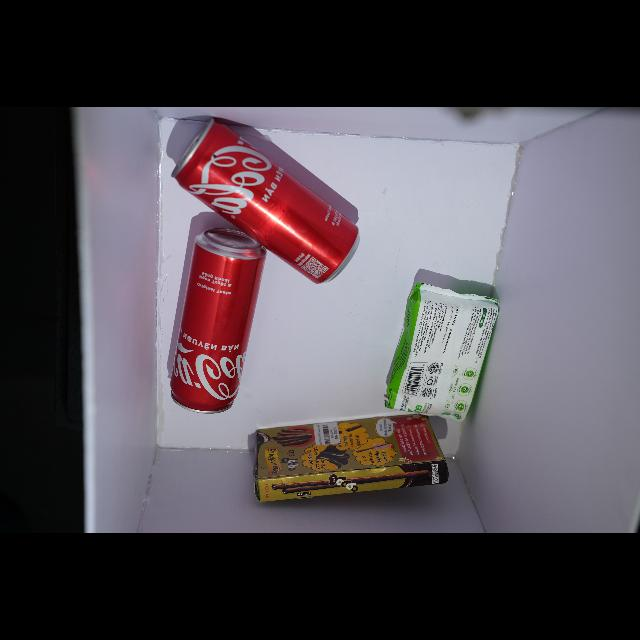banh_toppo_socola: (254, 414, 449, 502)
coca_cola: (172, 119, 359, 283), (170, 228, 265, 413)
khan_giay: (384, 284, 499, 421)
